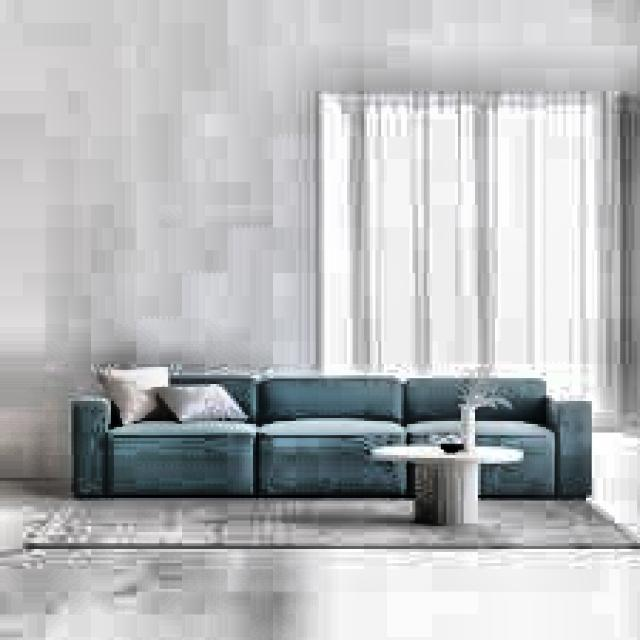sofa: (68, 370, 600, 498)
